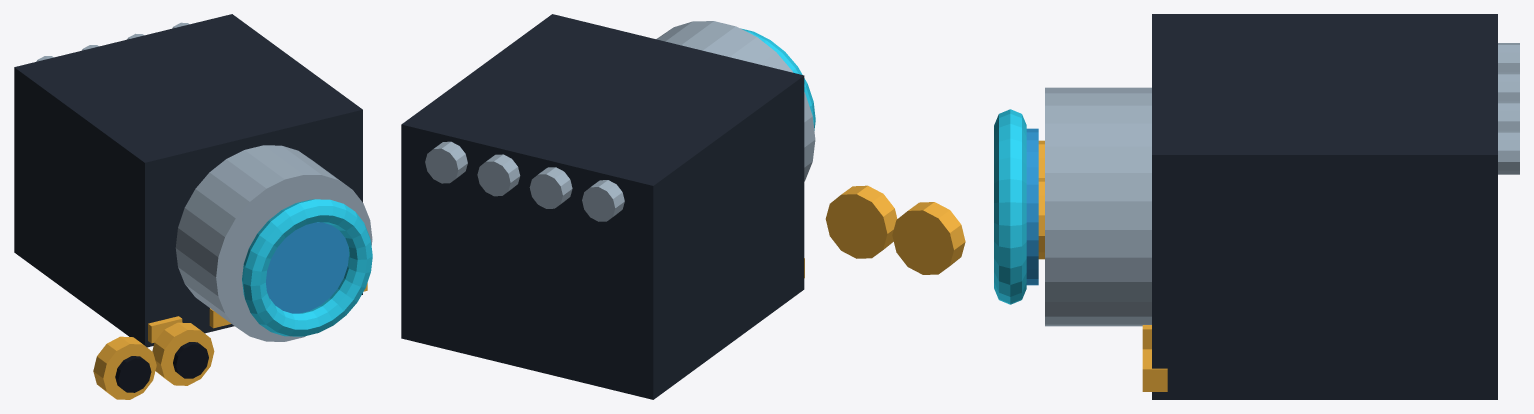
File: 34_L86_CollisionProximityScanner.fbx
3 renders of one model, left to right at view 1: azimuth 30°, elevation 25°; view 2: azimuth 150°, elevation 25°; view 3: azimuth 270°, elevation 25°, orthographic. The views are drawn at different scales.
Parts seen in each view (by area): view 1: L86_CollisionProximityScanner_Part_0000, L86_CollisionProximityScanner_Part_0001, L86_CollisionProximityScanner_Part_0003, L86_CollisionProximityScanner_Part_0002, L86_CollisionProximityScanner_Part_0005, L86_CollisionProximityScanner_Part_0007, L86_CollisionProximityScanner_Part_0006, L86_CollisionProximityScanner_Part_0008, L86_CollisionProximityScanner_Part_0004; view 2: L86_CollisionProximityScanner_Part_0000, L86_CollisionProximityScanner_Part_0001, L86_CollisionProximityScanner_Part_0005, L86_CollisionProximityScanner_Part_0007, L86_CollisionProximityScanner_Part_0003; view 3: L86_CollisionProximityScanner_Part_0000, L86_CollisionProximityScanner_Part_0001, L86_CollisionProximityScanner_Part_0003, L86_CollisionProximityScanner_Part_0002, L86_CollisionProximityScanner_Part_0004, L86_CollisionProximityScanner_Part_0007.
Part boxes in pixels (x1,y1,x2,y2): L86_CollisionProximityScanner_Part_0000: [14, 14, 362, 347]; L86_CollisionProximityScanner_Part_0001: [36, 22, 372, 341]; L86_CollisionProximityScanner_Part_0003: [242, 199, 372, 336]; L86_CollisionProximityScanner_Part_0002: [266, 222, 348, 313]; L86_CollisionProximityScanner_Part_0005: [93, 336, 156, 399]; L86_CollisionProximityScanner_Part_0007: [152, 322, 214, 385]; L86_CollisionProximityScanner_Part_0006: [115, 356, 151, 392]; L86_CollisionProximityScanner_Part_0008: [173, 342, 208, 378]; L86_CollisionProximityScanner_Part_0004: [148, 283, 367, 343]; L86_CollisionProximityScanner_Part_0000: [401, 14, 804, 399]; L86_CollisionProximityScanner_Part_0001: [425, 21, 815, 221]; L86_CollisionProximityScanner_Part_0005: [892, 202, 965, 274]; L86_CollisionProximityScanner_Part_0007: [825, 185, 897, 258]; L86_CollisionProximityScanner_Part_0003: [740, 28, 815, 130]; L86_CollisionProximityScanner_Part_0000: [1152, 14, 1497, 399]; L86_CollisionProximityScanner_Part_0001: [1045, 43, 1519, 326]; L86_CollisionProximityScanner_Part_0003: [994, 109, 1026, 304]; L86_CollisionProximityScanner_Part_0002: [1026, 128, 1038, 285]; L86_CollisionProximityScanner_Part_0004: [1142, 325, 1167, 391]; L86_CollisionProximityScanner_Part_0007: [1038, 178, 1044, 259].
Size of the model in its own units: 75.25 by 43.12 by 83.6.
